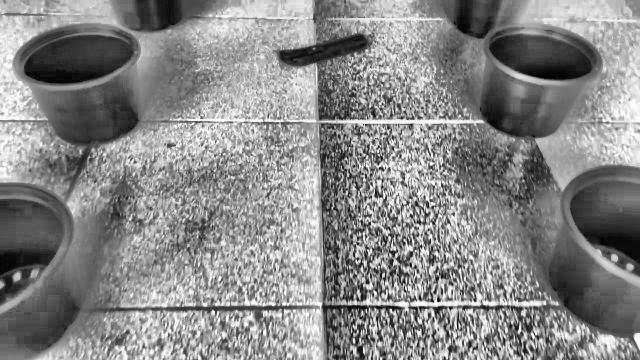pot: (451, 0, 603, 139), (546, 166, 640, 350), (12, 24, 142, 145), (0, 184, 82, 360)
